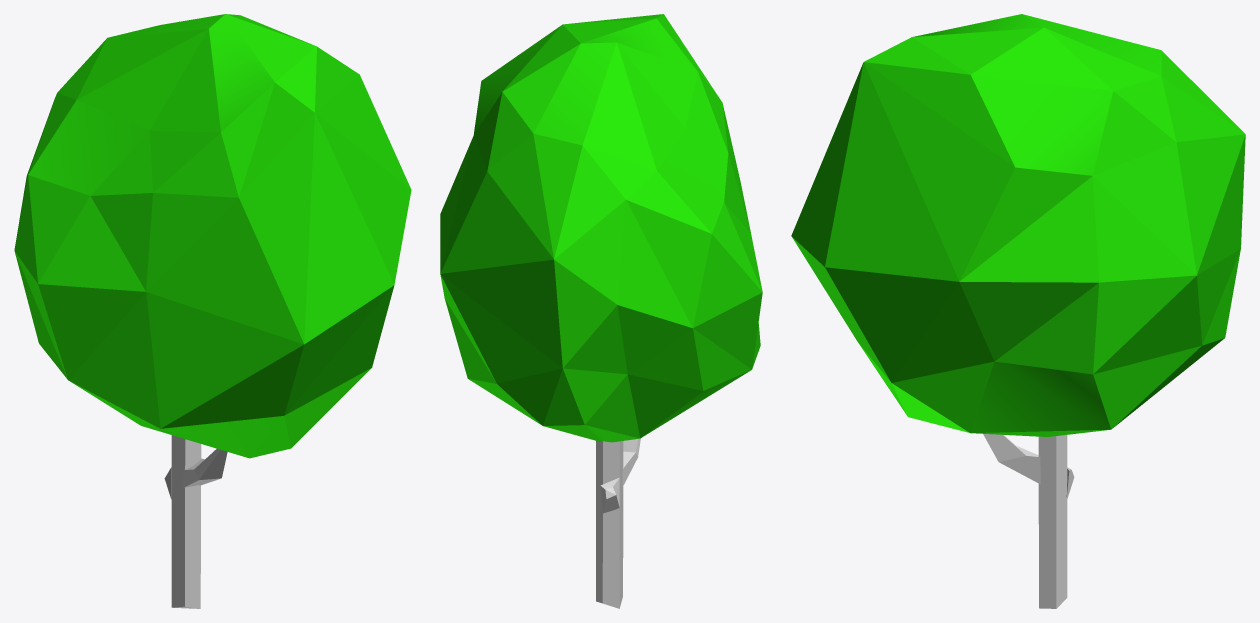
File: BumpyTree.fbx
3 renders of one model, left to right at view 1: azimuth 30°, elevation 25°; view 2: azimuth 150°, elevation 25°; view 3: azimuth 270°, elevation 25°, orthographic. The views are drawn at different scales.
Visible parts, largest first — view 1: tree-round; view 2: tree-round; view 3: tree-round.
Part boxes in pixels (x1,y1,x2,y2): tree-round: [14, 14, 411, 608]; tree-round: [440, 14, 762, 608]; tree-round: [791, 14, 1245, 608].
Size of the model in its own units: 330 by 551 by 382.
